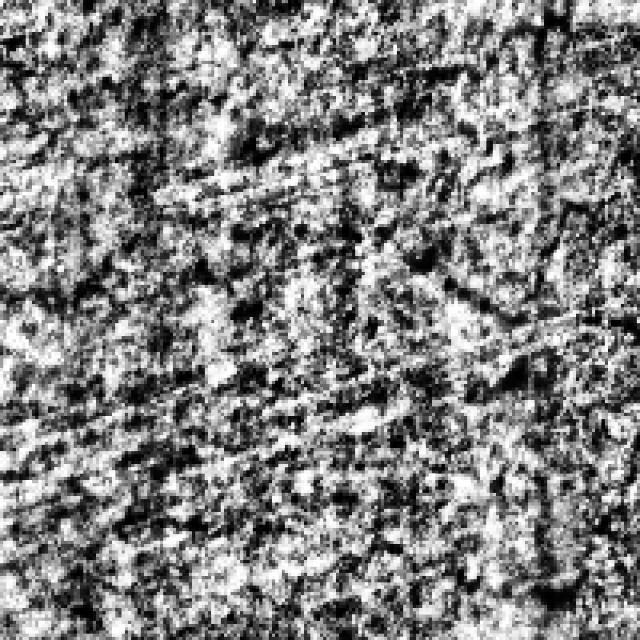Pitted_Surface: (64, 16, 554, 333)
